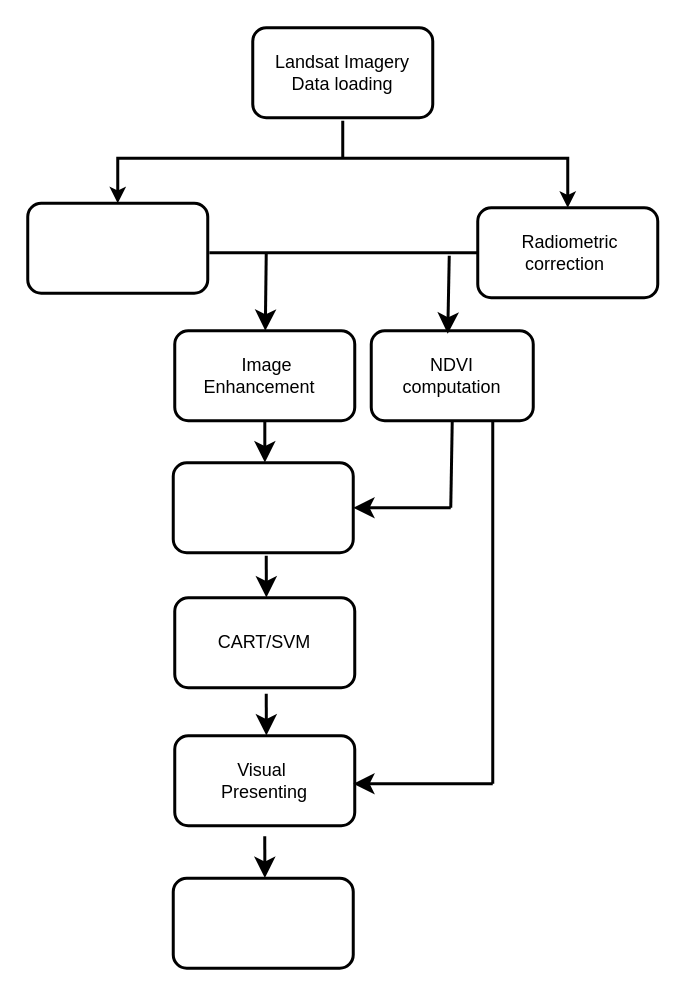
Image size: 684x995. Some labels were removed from this diagram. The shapes that lost their labels are listed below. From the top down, each one's centre as x and y in pixels, then its label:
At point (117, 247): "Cloud masking".
At point (262, 507): "Feature Engineering".
At point (262, 922): "Result".
